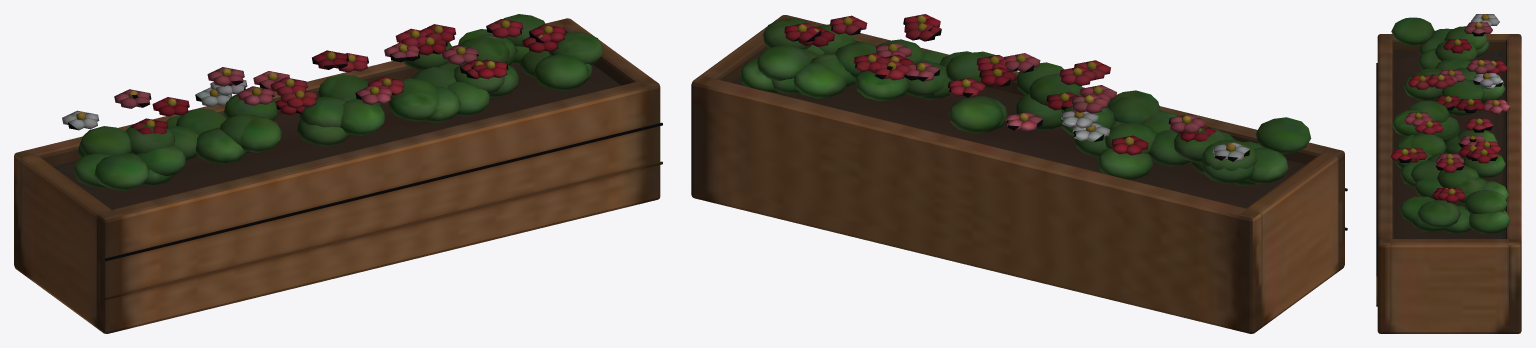
File: planter.glb
3 views of the same model, side by side, from view 1: azimuth 30°, elevation 25°; view 2: azimuth 150°, elevation 25°; view 3: azimuth 270°, elevation 25° (orthographic). The views are drawn at different scales.
Parts seen in each view (by area): view 1: planter; view 2: planter; view 3: planter.
Boxes of the visible parts, <box> form: planter: <box>14,14,662,333</box>; planter: <box>691,14,1347,333</box>; planter: <box>1376,14,1521,333</box>.
Bounding box in the file's own units: 1.6 × 0.4819 × 0.464.
5 materials, 5 textured.
